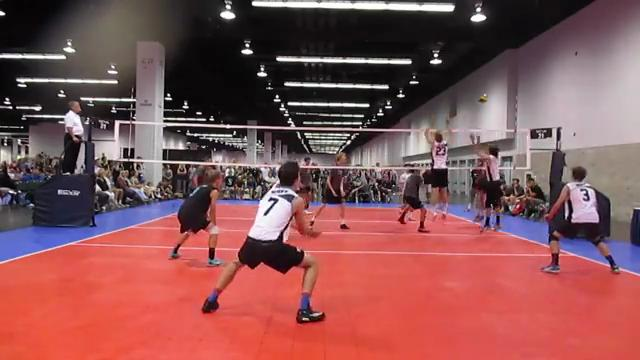Attack: (467, 154, 486, 221)
Block: (465, 127, 518, 239), (416, 108, 455, 224)
Player: (202, 162, 324, 322), (542, 166, 619, 273), (169, 169, 222, 265), (310, 169, 349, 229), (398, 169, 427, 232), (298, 157, 312, 214), (398, 164, 410, 193)
ball: (478, 93, 488, 104)
